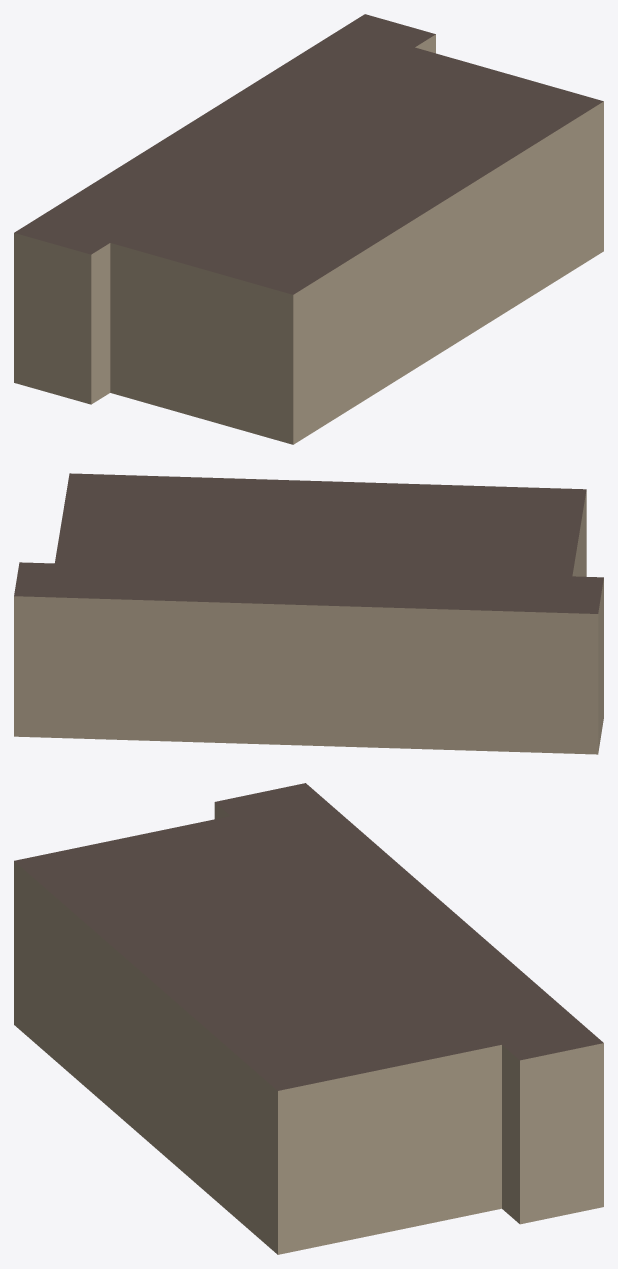
The picture shows the model from 3 angles, top to bottom: view 1: azimuth 30°, elevation 25°; view 2: azimuth 150°, elevation 25°; view 3: azimuth 270°, elevation 25°; orthographic projection. The views are drawn at different scales.
Parts seen in each view (by area): view 1: HP-w859488801; view 2: HP-w859488801; view 3: HP-w859488801.
Boxes of the visible parts, x1=… form: HP-w859488801: x1=14, y1=14, x2=603, y2=444; HP-w859488801: x1=14, y1=473, x2=603, y2=754; HP-w859488801: x1=14, y1=783, x2=603, y2=1254.
Size of the model in its own units: 36.25 by 9 by 29.35.
